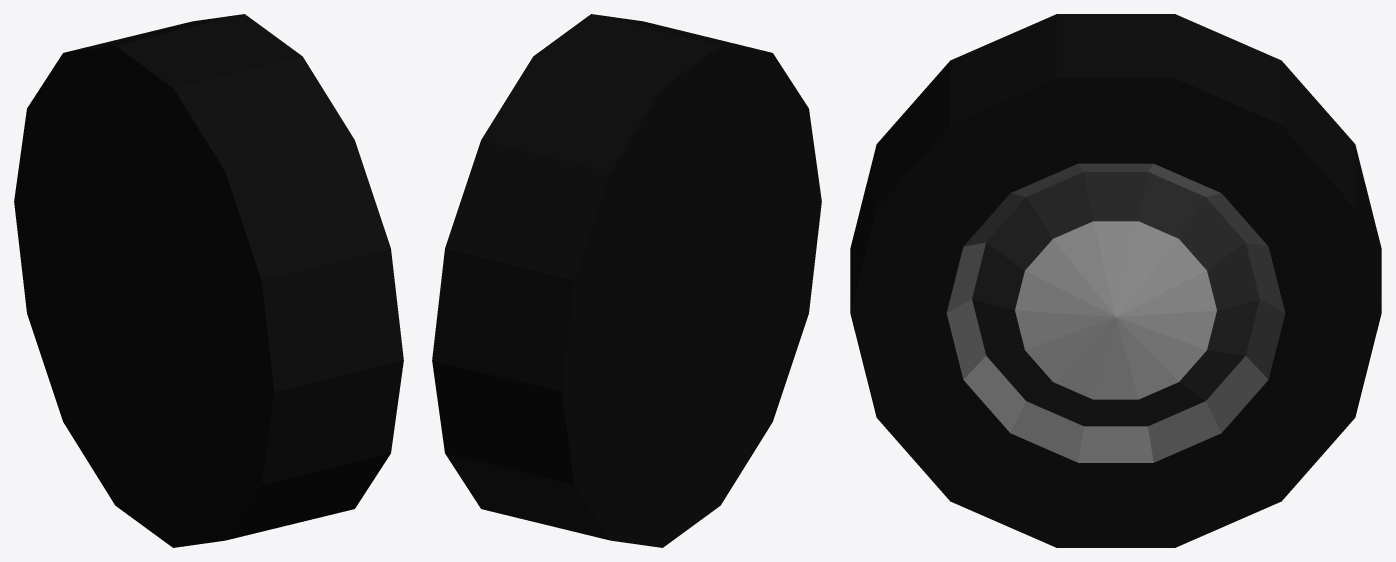
File: WheelTruckFrontLeft.fbx
3 views of the same model, side by side, from view 1: azimuth 30°, elevation 25°; view 2: azimuth 150°, elevation 25°; view 3: azimuth 270°, elevation 25° (orthographic). The views are drawn at different scales.
Visible parts, largest first — view 1: WheelTruckFrontLeft; view 2: WheelTruckFrontLeft; view 3: WheelTruckFrontLeft.
Part boxes in pixels (x1,y1,x2,y2): WheelTruckFrontLeft: [14, 14, 403, 547]; WheelTruckFrontLeft: [432, 14, 821, 547]; WheelTruckFrontLeft: [850, 14, 1381, 547].
Size of the model in its own units: 0.2295 by 0.7366 by 0.7556.
